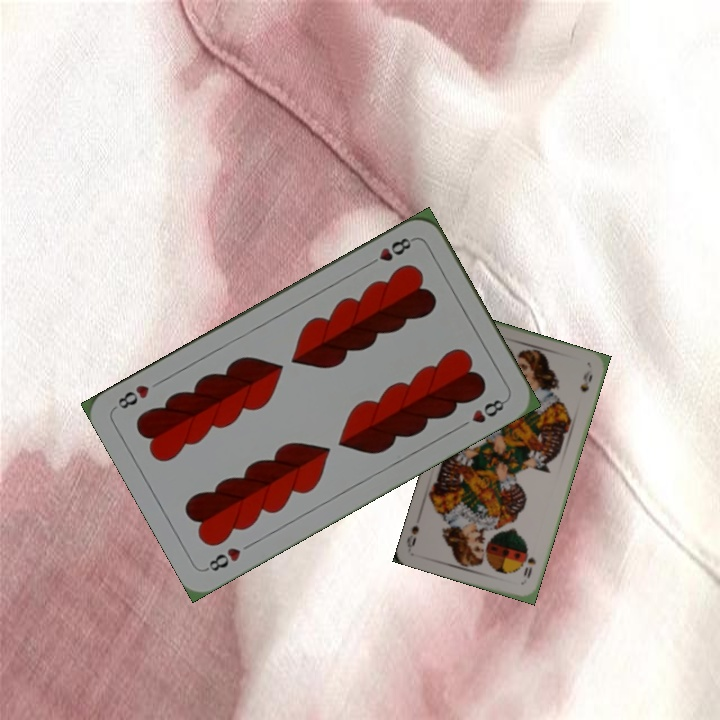H8: (363, 233, 417, 269), (202, 538, 256, 574)
SO: (519, 553, 539, 581)
